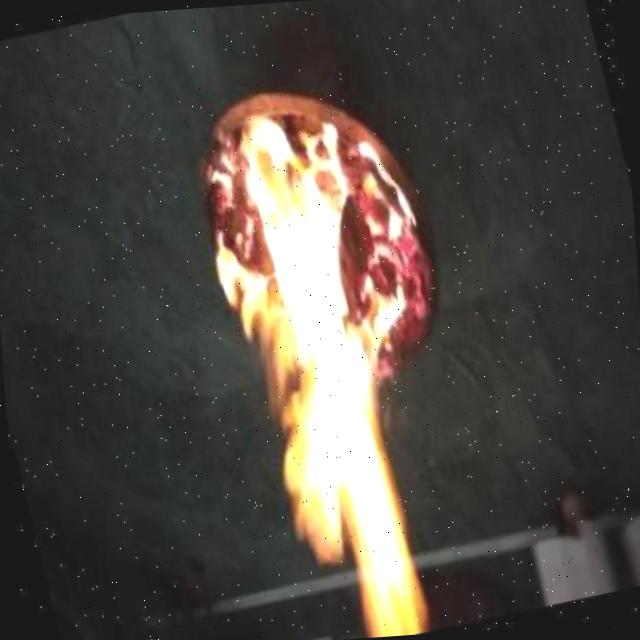fire: (187, 92, 453, 640), (334, 121, 455, 366)
